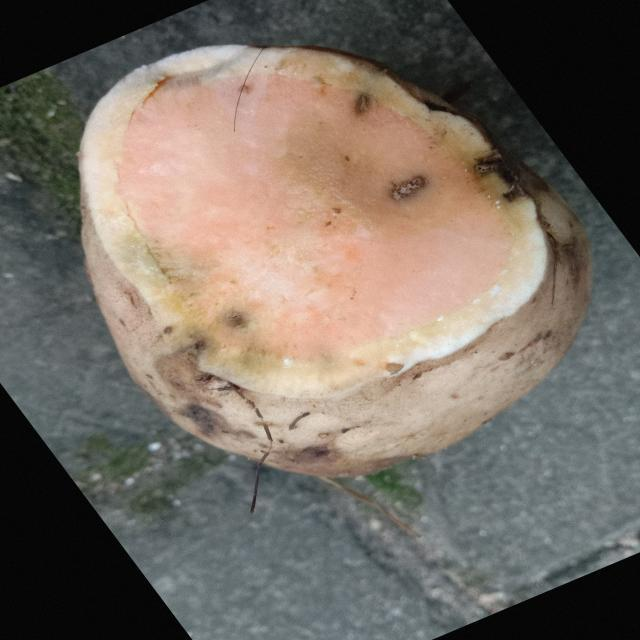Sick Sweet Potato_Tuber Rot: (80, 45, 547, 396)
